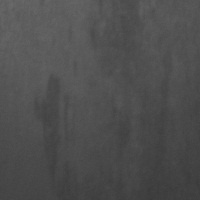inclusion: (145, 41, 180, 172), (33, 72, 71, 183), (102, 104, 131, 164), (90, 10, 111, 60)
